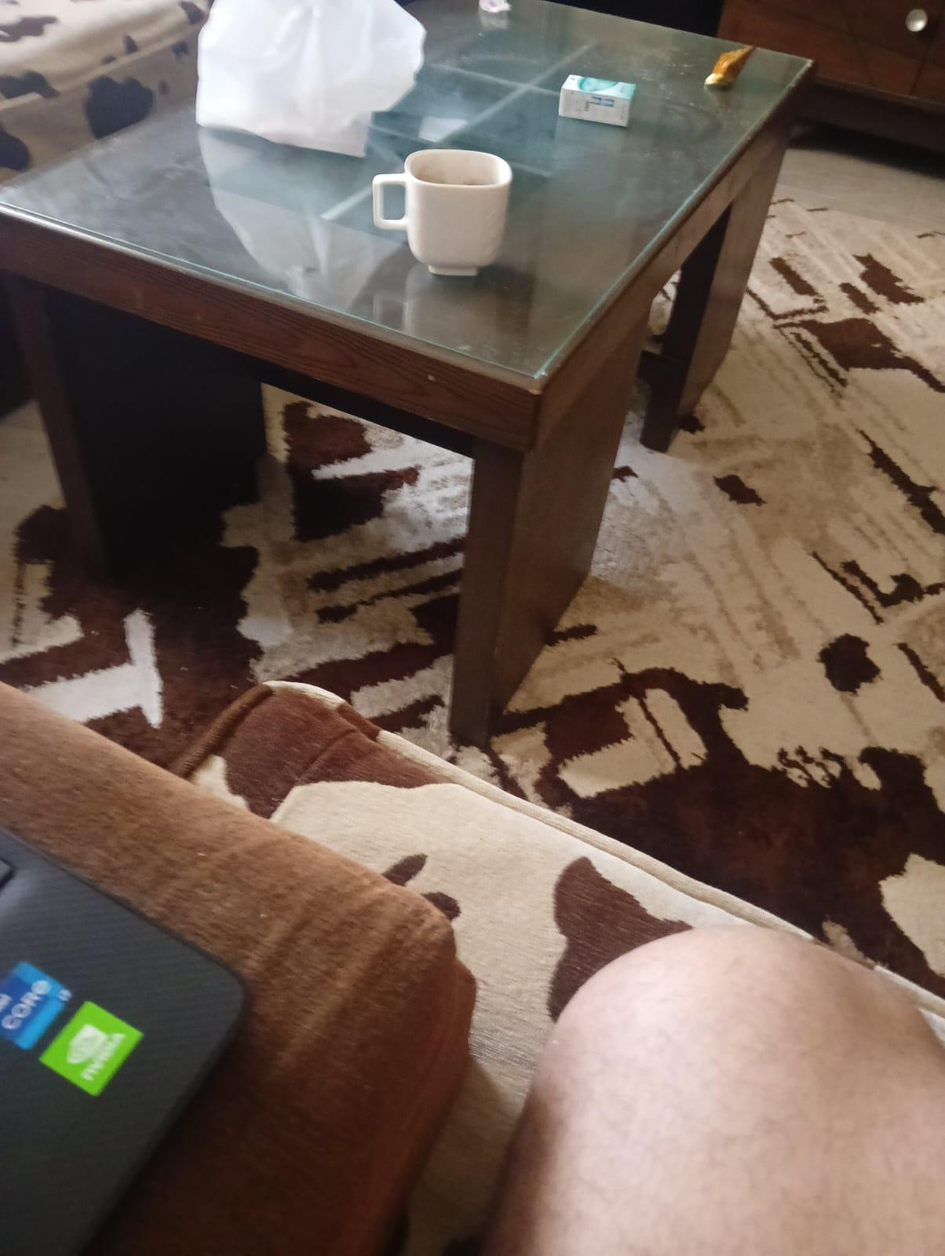cup: (373, 150, 512, 275)
